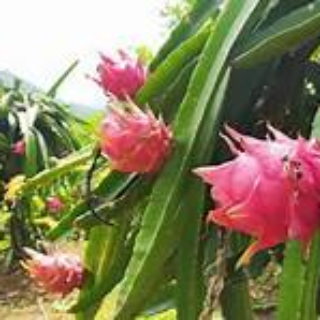thanh_long: (203, 136, 320, 247), (95, 104, 173, 176), (94, 49, 152, 104), (20, 248, 91, 292)
